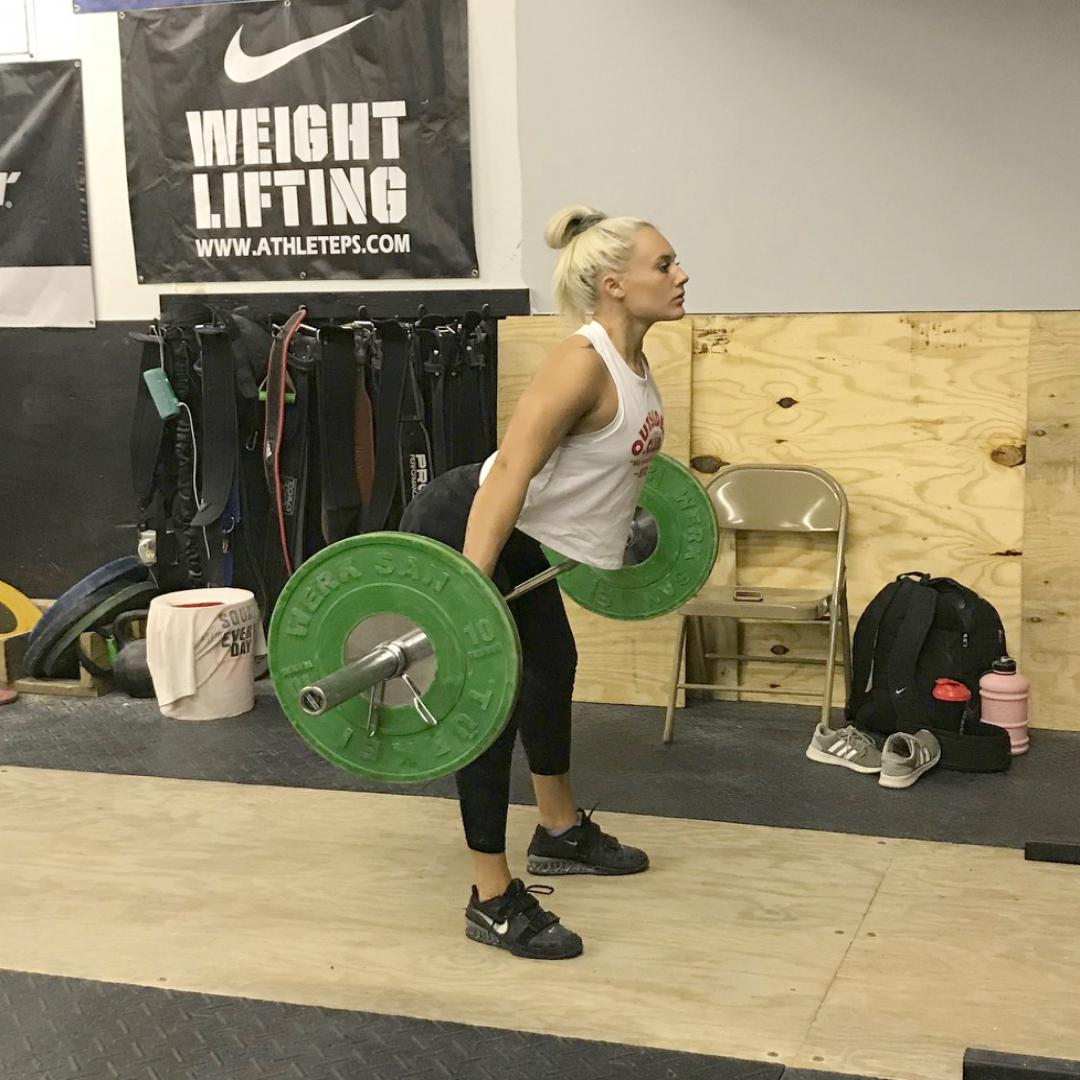Bar: (297, 683, 330, 718)
Barbell: (272, 531, 516, 779)
